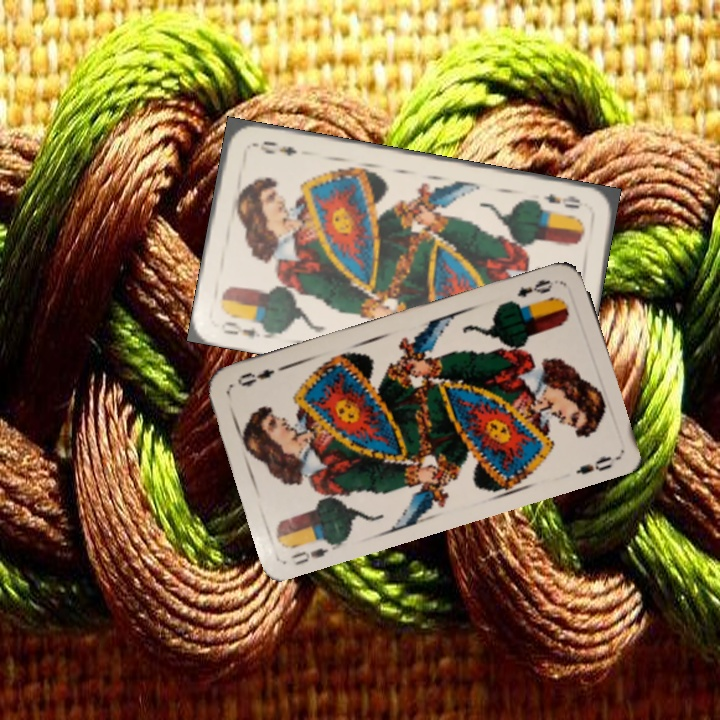EO: (286, 534, 341, 568), (217, 313, 273, 341), (513, 275, 563, 300), (539, 189, 583, 212)
